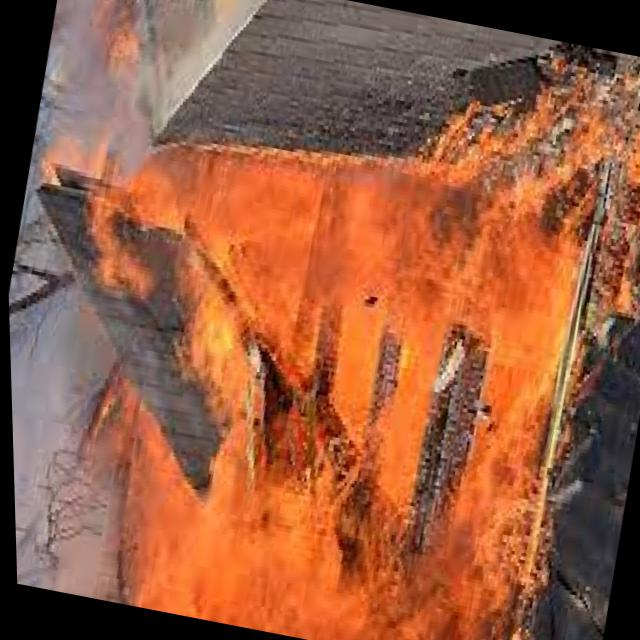Fire: (124, 135, 597, 640), (84, 131, 212, 292)
